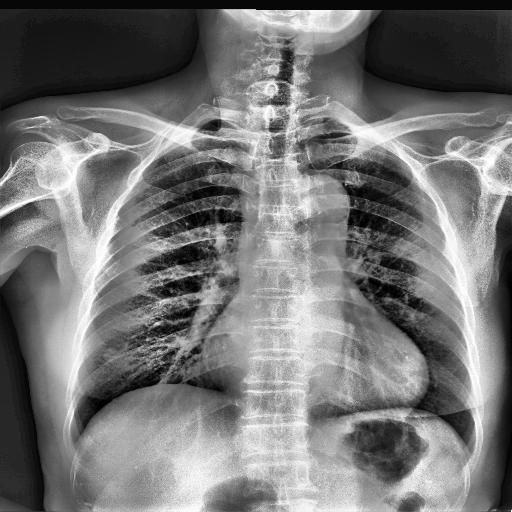0- Aortic enlargement: (286, 172, 352, 234), (291, 174, 353, 231), (296, 174, 351, 222)
3- Cardiomegaly: (200, 318, 430, 408), (202, 328, 433, 410), (202, 333, 431, 409)
